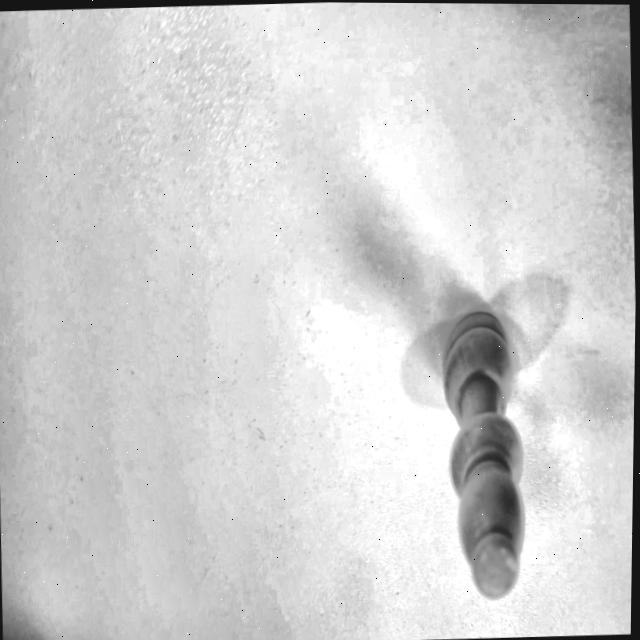white-bishop: (403, 204, 567, 640)
